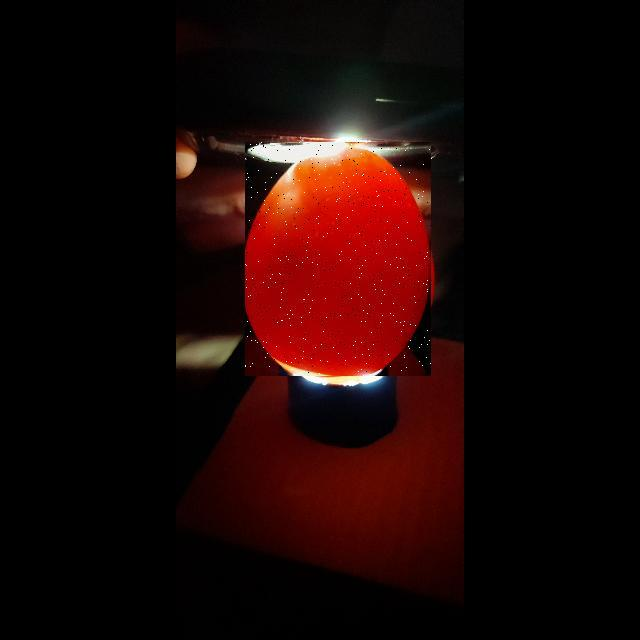Fertile: (245, 142, 431, 376)
